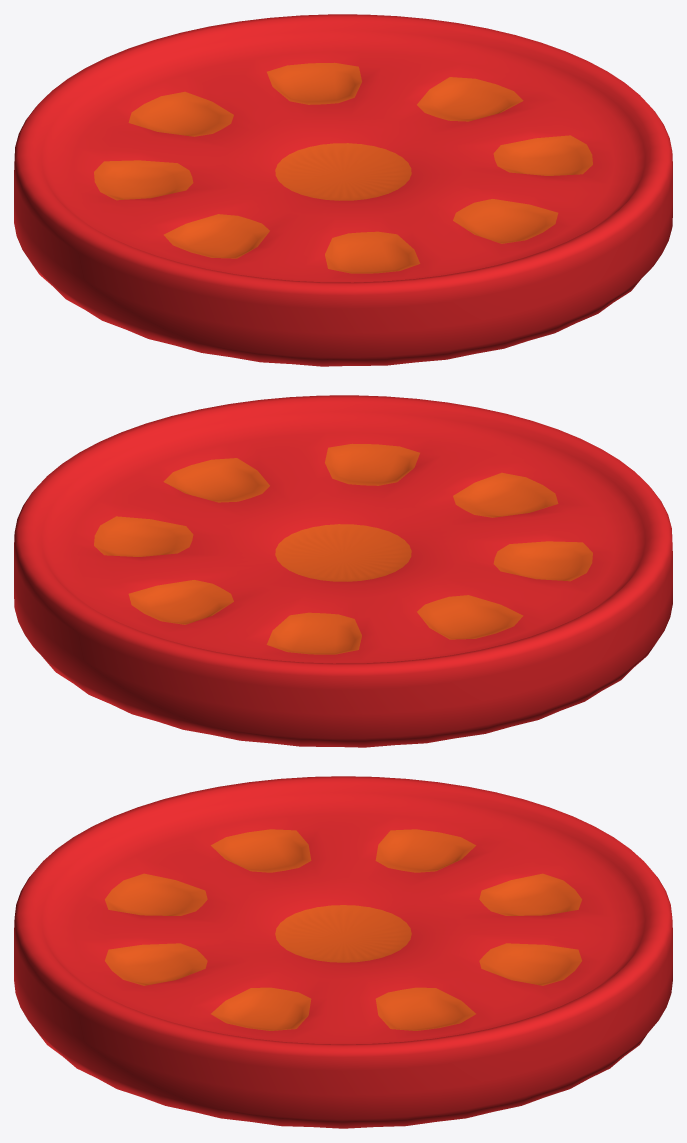
File: tomato_sliced.fbx
The picture shows the model from 3 angles, top to bottom: view 1: azimuth 30°, elevation 25°; view 2: azimuth 150°, elevation 25°; view 3: azimuth 270°, elevation 25°; orthographic projection.
Visible parts, largest first — view 1: tomato_single; view 2: tomato_single; view 3: tomato_single.
Boxes of the visible parts, left/top/right/bottom form: tomato_single: left=14, top=14, right=672, bottom=366; tomato_single: left=14, top=395, right=672, bottom=747; tomato_single: left=14, top=776, right=672, bottom=1128.
Size of the model in its own units: 37.55 by 5.47 by 37.55.
